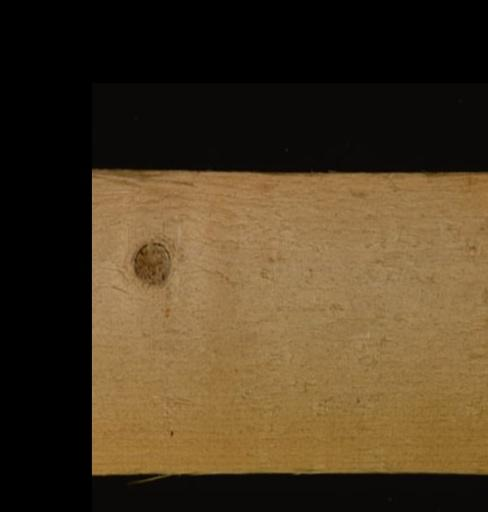dry_knot: (129, 240, 172, 289)
